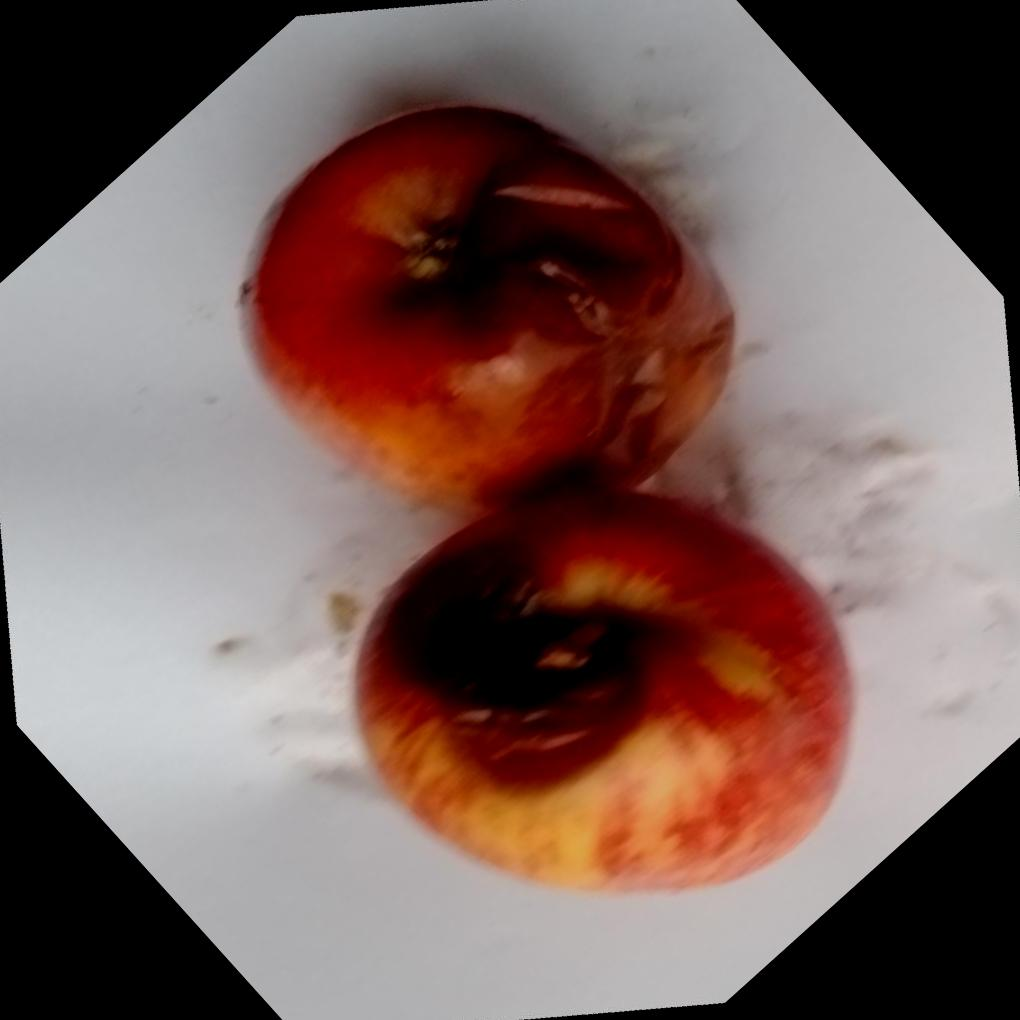FreshOrange: (239, 109, 858, 901)
